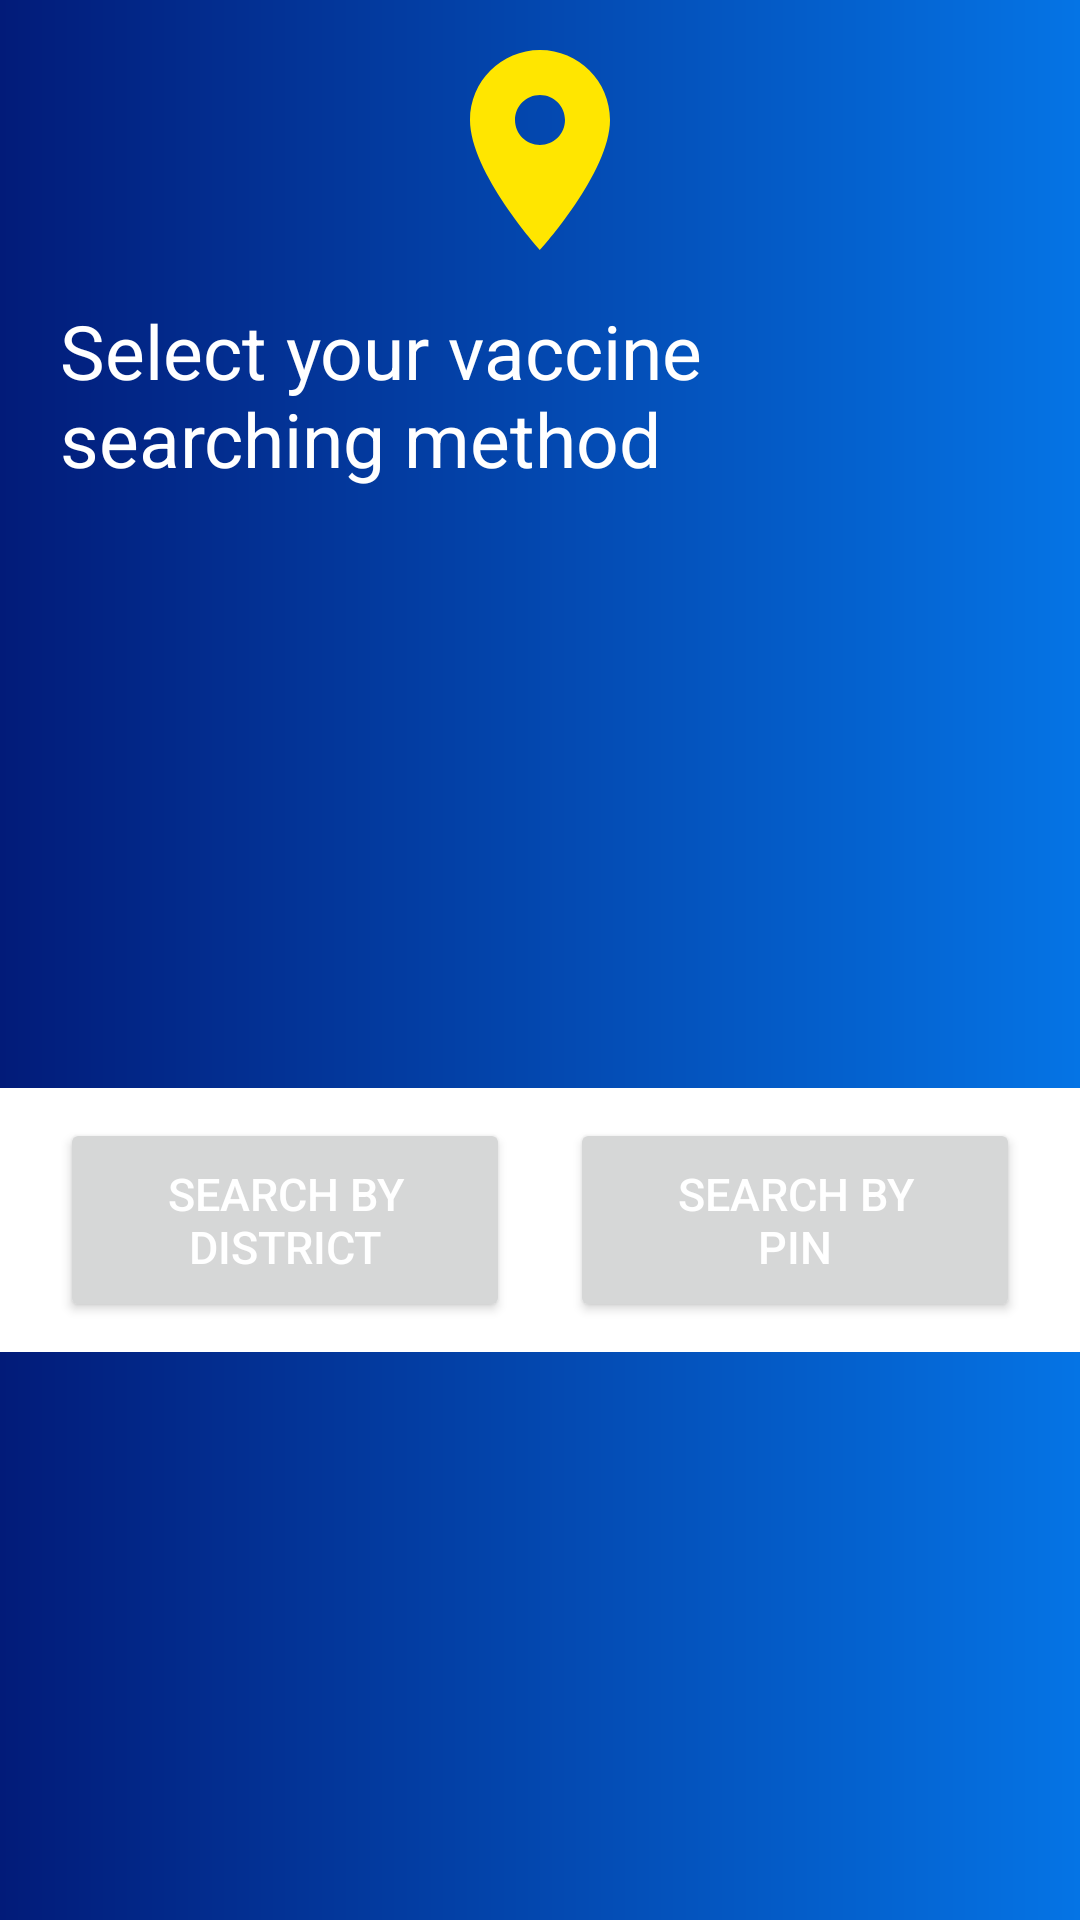

Icons on this 1080px x 1920px Android screen, each with the point to tap as (x,y):
location what: (540,150)
